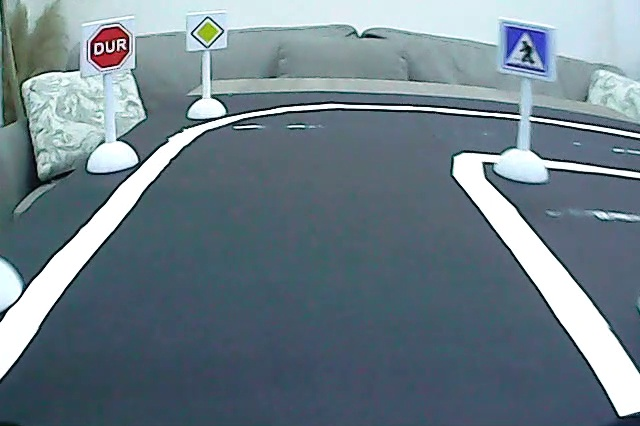pedestrian crossing: (501, 20, 554, 79)
stop sign: (85, 20, 135, 73)
